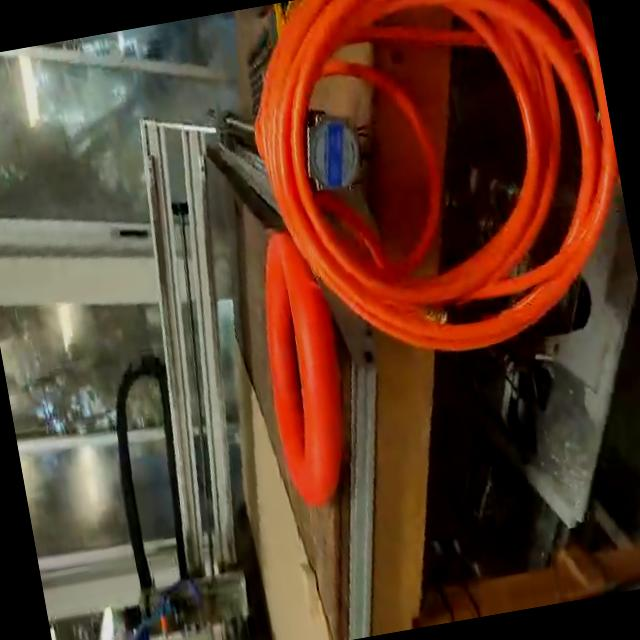note: (246, 232, 362, 508)
